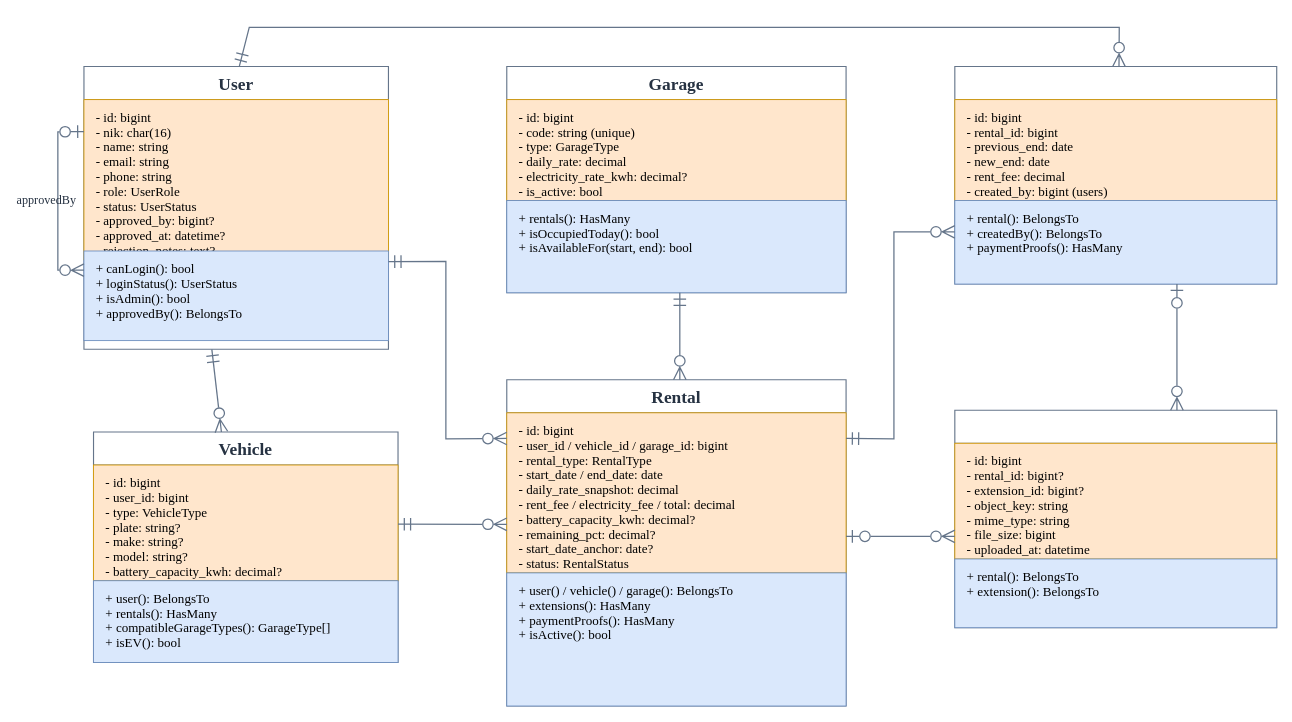
This 1292x722 diagram has some shape labels left out. Here are the shapes that lost their labels. From the top down, the box of each, then its label:
(954, 66, 1277, 284): RentalExtension
(954, 409, 1277, 628): PaymentProof
